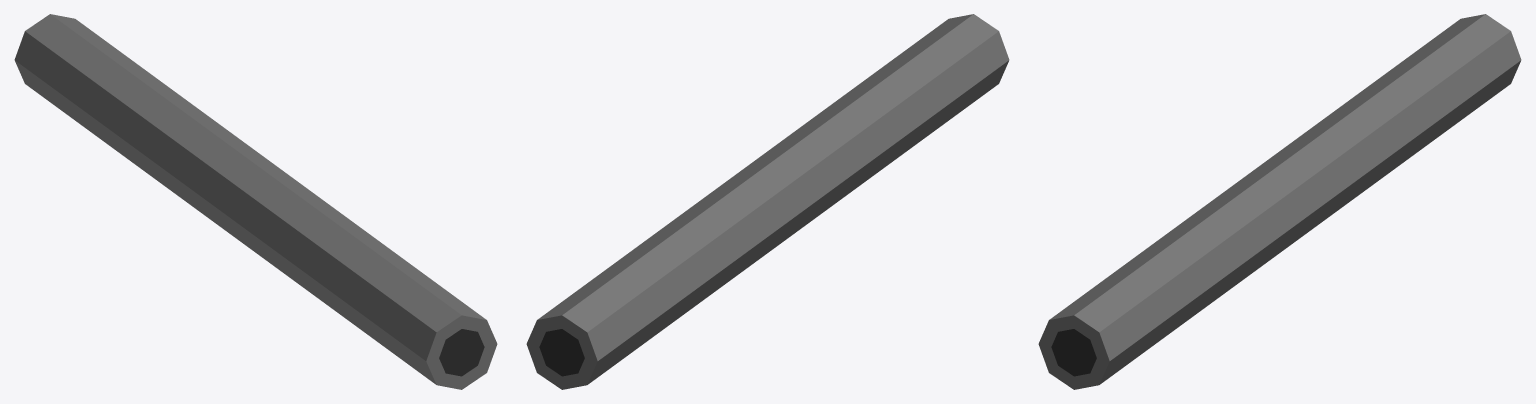
Rendered from Aluminum_Rod_0.fbx.
3 views of the same model, side by side, from view 1: azimuth 30°, elevation 25°; view 2: azimuth 150°, elevation 25°; view 3: azimuth 330°, elevation 25° (orthographic).
Parts seen in each view (by area): view 1: Aluminum_Rod_0; view 2: Aluminum_Rod_0; view 3: Aluminum_Rod_0.
Part boxes in pixels (x1,y1,x2,y2): Aluminum_Rod_0: (14,14,497,389); Aluminum_Rod_0: (526,14,1009,389); Aluminum_Rod_0: (1038,14,1521,389).
Bounding box in the file's own units: 15 × 15 × 150.
